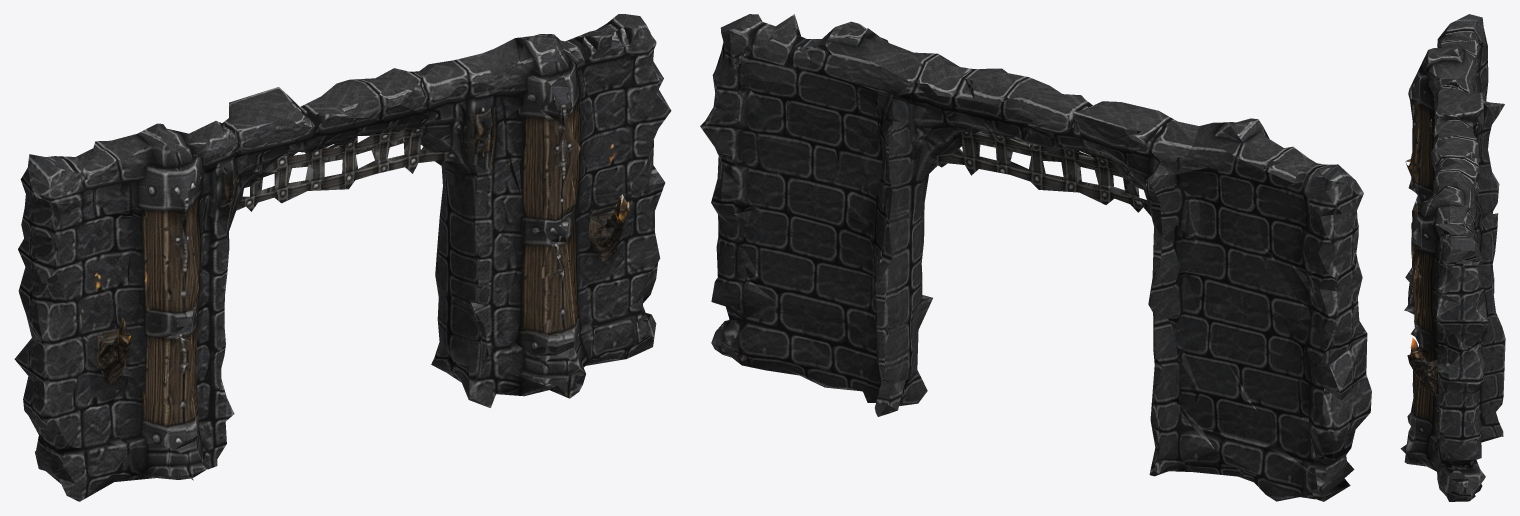
The model's file is war_dungeon_gate.glb.
The picture shows the model from 3 angles, left to right: view 1: azimuth 30°, elevation 25°; view 2: azimuth 150°, elevation 25°; view 3: azimuth 270°, elevation 25°; orthographic projection. The views are drawn at different scales.
Visible parts, largest first — view 1: output_unwrapped; view 2: output_unwrapped; view 3: output_unwrapped.
Boxes of the visible parts, bbox=[...] form: output_unwrapped: bbox=[14, 14, 671, 501]; output_unwrapped: bbox=[700, 14, 1371, 501]; output_unwrapped: bbox=[1400, 14, 1505, 501].
Size of the model in its own units: 1.88 by 1.01 by 0.3478.
Materials: 1 (1 with a texture image).
